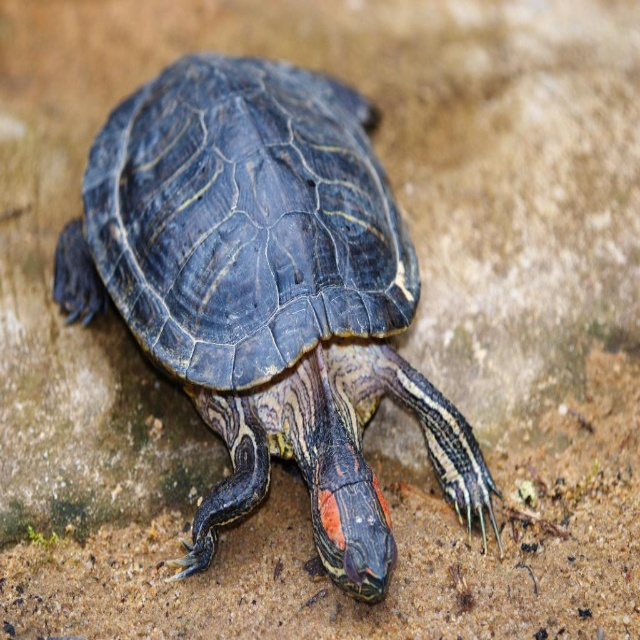Sea turtle: (53, 51, 505, 604)
